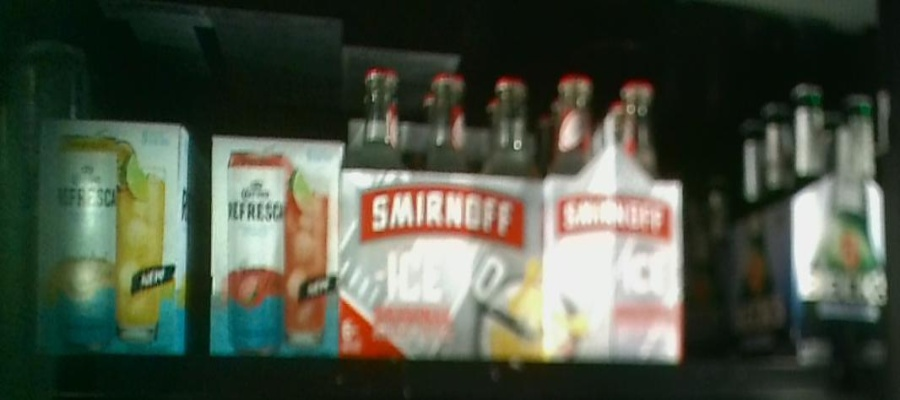bottle: (352, 58, 543, 365), (548, 68, 683, 365), (43, 124, 207, 356), (214, 134, 340, 354), (791, 86, 889, 349)
